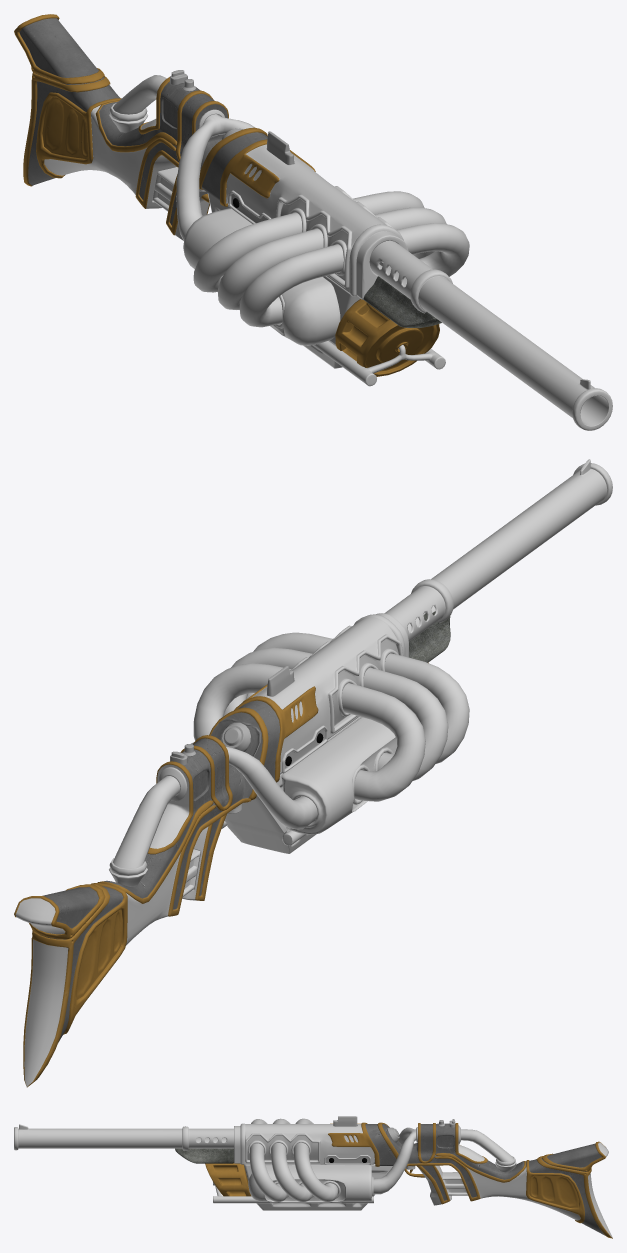
File: Smoking gun.fbx
3 views of the same model, one above another, from view 1: azimuth 30°, elevation 25°; view 2: azimuth 150°, elevation 25°; view 3: azimuth 270°, elevation 25° (orthographic). The views are drawn at different scales.
Parts seen in each view (by area): view 1: SMOOTH_STEEL, BRASS, BASIC_STEEL, WOOD, OTHER_MATERIAL; view 2: SMOOTH_STEEL, WOOD, BRASS, BASIC_STEEL, OTHER_MATERIAL; view 3: SMOOTH_STEEL, BRASS, BASIC_STEEL, WOOD, OTHER_MATERIAL.
Boxes of the visible parts, <box> form: SMOOTH_STEEL: <box>109,75,612,430</box>; BRASS: <box>14,14,439,376</box>; BASIC_STEEL: <box>19,18,347,280</box>; WOOD: <box>44,105,408,368</box>; OTHER_MATERIAL: <box>363,276,441,327</box>; SMOOTH_STEEL: <box>109,459,612,896</box>; WOOD: <box>15,613,408,1086</box>; BRASS: <box>14,662,428,1087</box>; BASIC_STEEL: <box>40,638,398,1042</box>; OTHER_MATERIAL: <box>409,611,450,662</box>; SMOOTH_STEEL: <box>14,1118,516,1203</box>; BRASS: <box>205,1122,612,1238</box>; BASIC_STEEL: <box>247,1116,605,1235</box>; WOOD: <box>234,1124,612,1237</box>; OTHER_MATERIAL: <box>175,1148,233,1163</box>.
Bounding box in the file's own units: 5.32 × 5.27 × 23.47.
